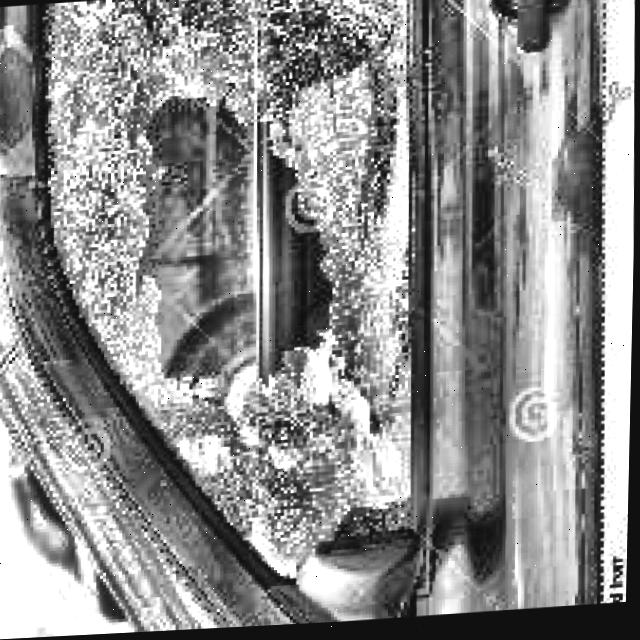glass_shatter: (135, 78, 340, 424)
